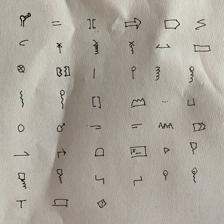aptamer: (19, 12, 31, 28)
assembly-scar: (50, 20, 62, 28)
blunt-restriction-site: (86, 18, 97, 30)
cds: (163, 18, 181, 30)
cds-arrow: (124, 17, 142, 29)
chromosomal-locus: (195, 18, 206, 30)
circular-plasmid: (19, 39, 29, 46)
composite: (156, 42, 171, 49)
dna-stability-element: (189, 141, 198, 155)
engineered-region: (193, 44, 211, 53)
five-prime-overhang: (89, 124, 107, 136)
five-prime-sticky-restriction-site: (94, 174, 105, 185)
halfround-rectangle: (51, 199, 68, 207)
inert-dna-spacer: (17, 64, 26, 73)
intron: (56, 66, 71, 77)
location-dna: (130, 65, 137, 80)
location-dna-no-top: (92, 67, 96, 79)
location-protein: (189, 66, 195, 83)
location-protein-no-top: (155, 66, 160, 81)
location-rna: (59, 89, 65, 110)
location-rna-no-top: (19, 89, 25, 108)
ncrna: (130, 98, 147, 107)
no-glyph-assigned: (91, 95, 102, 109)
nuclease-site: (56, 41, 63, 54)
omitted-detail: (160, 99, 169, 103)
operator: (186, 98, 196, 106)
origin-of-replication: (17, 123, 25, 132)
origin-of-transfer: (56, 122, 66, 132)
polyA: (158, 121, 174, 130)
polypeptide-region: (191, 122, 208, 132)
primer-binding-site: (13, 151, 30, 157)
promoter: (57, 148, 66, 159)
protease-site: (92, 39, 100, 55)
protein-stability-element: (17, 172, 28, 189)
replacement-glyph: (96, 198, 107, 209)
ribonuclease-site: (128, 40, 136, 55)
ribosome-entry-site: (94, 147, 105, 157)
rna-stability-element: (56, 168, 64, 184)
signature: (129, 145, 148, 158)
specific-recombination-site: (162, 146, 171, 154)
terminator: (16, 199, 27, 208)
three-prime-overhang: (130, 123, 143, 129)
three-prime-sticky-restriction-site: (133, 175, 143, 187)
transcription-end: (162, 170, 169, 182)
translation-end: (191, 167, 198, 183)
